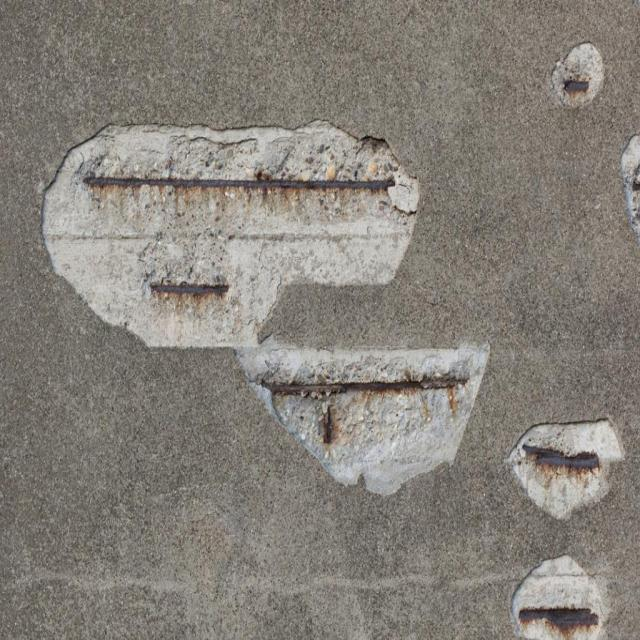Rebar: (39, 116, 420, 346), (234, 346, 490, 494), (504, 416, 626, 521), (509, 552, 607, 639), (549, 39, 604, 108), (618, 133, 640, 234)
